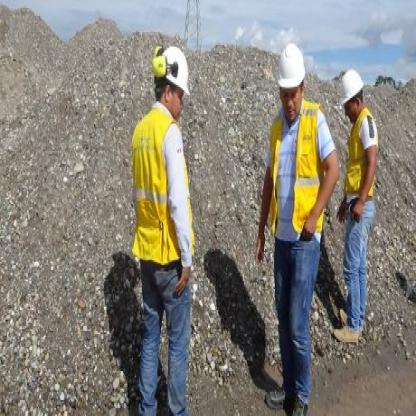person: (254, 26, 340, 411), (120, 36, 198, 410), (338, 63, 378, 358)
